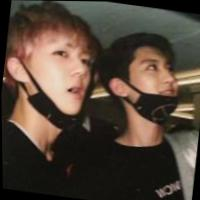WRONG: (15, 40, 96, 126), (119, 51, 186, 123)
